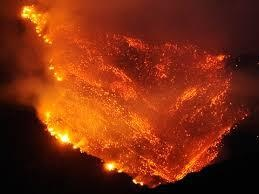fire: (20, 5, 55, 44), (46, 58, 66, 82)
